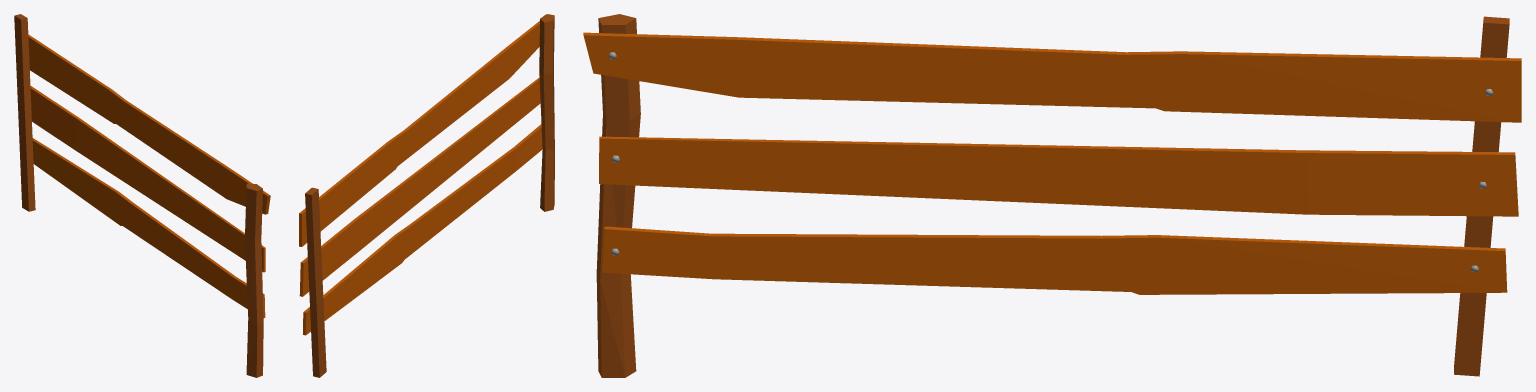
File: Fence2.fbx
3 views of the same model, side by side, from view 1: azimuth 30°, elevation 25°; view 2: azimuth 150°, elevation 25°; view 3: azimuth 270°, elevation 25° (orthographic). The views are drawn at different scales.
Parts seen in each view (by area): view 1: Fence2; view 2: Fence2; view 3: Fence2.
Boxes of the visible parts, left/top/right/bottom form: Fence2: left=14, top=14, right=270, bottom=377; Fence2: left=299, top=14, right=554, bottom=377; Fence2: left=583, top=14, right=1521, bottom=377.
Size of the model in its own units: 44.49 by 511 by 1228.
